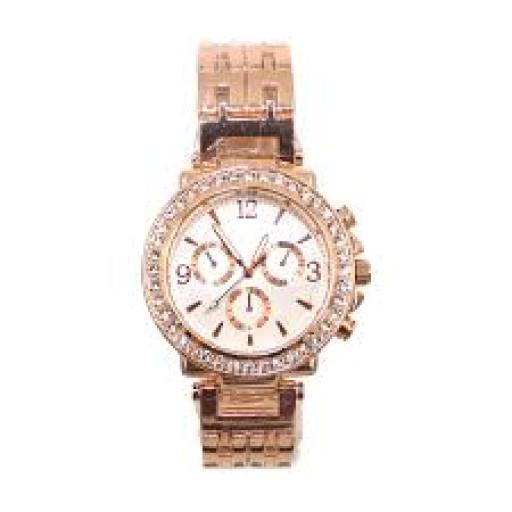KolSaati: (130, 22, 382, 485)
